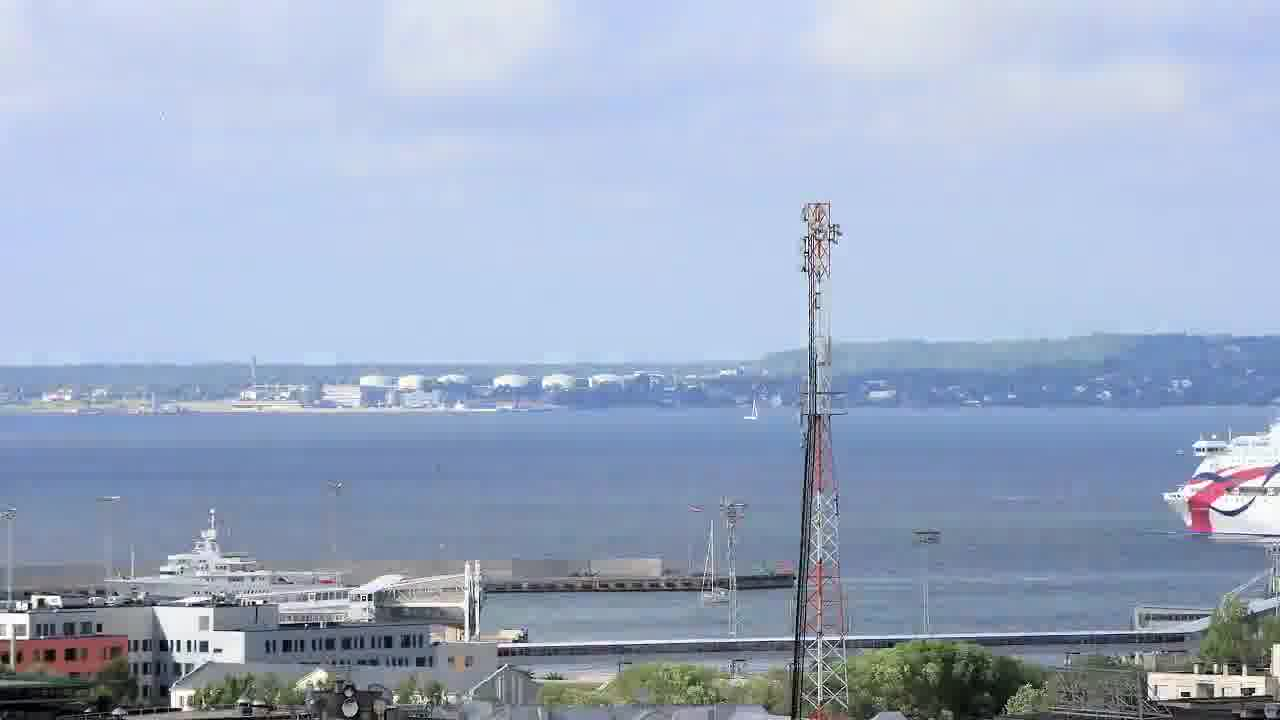type-0: (691, 528, 739, 615)
type-3: (96, 508, 381, 605), (1157, 414, 1280, 554)
